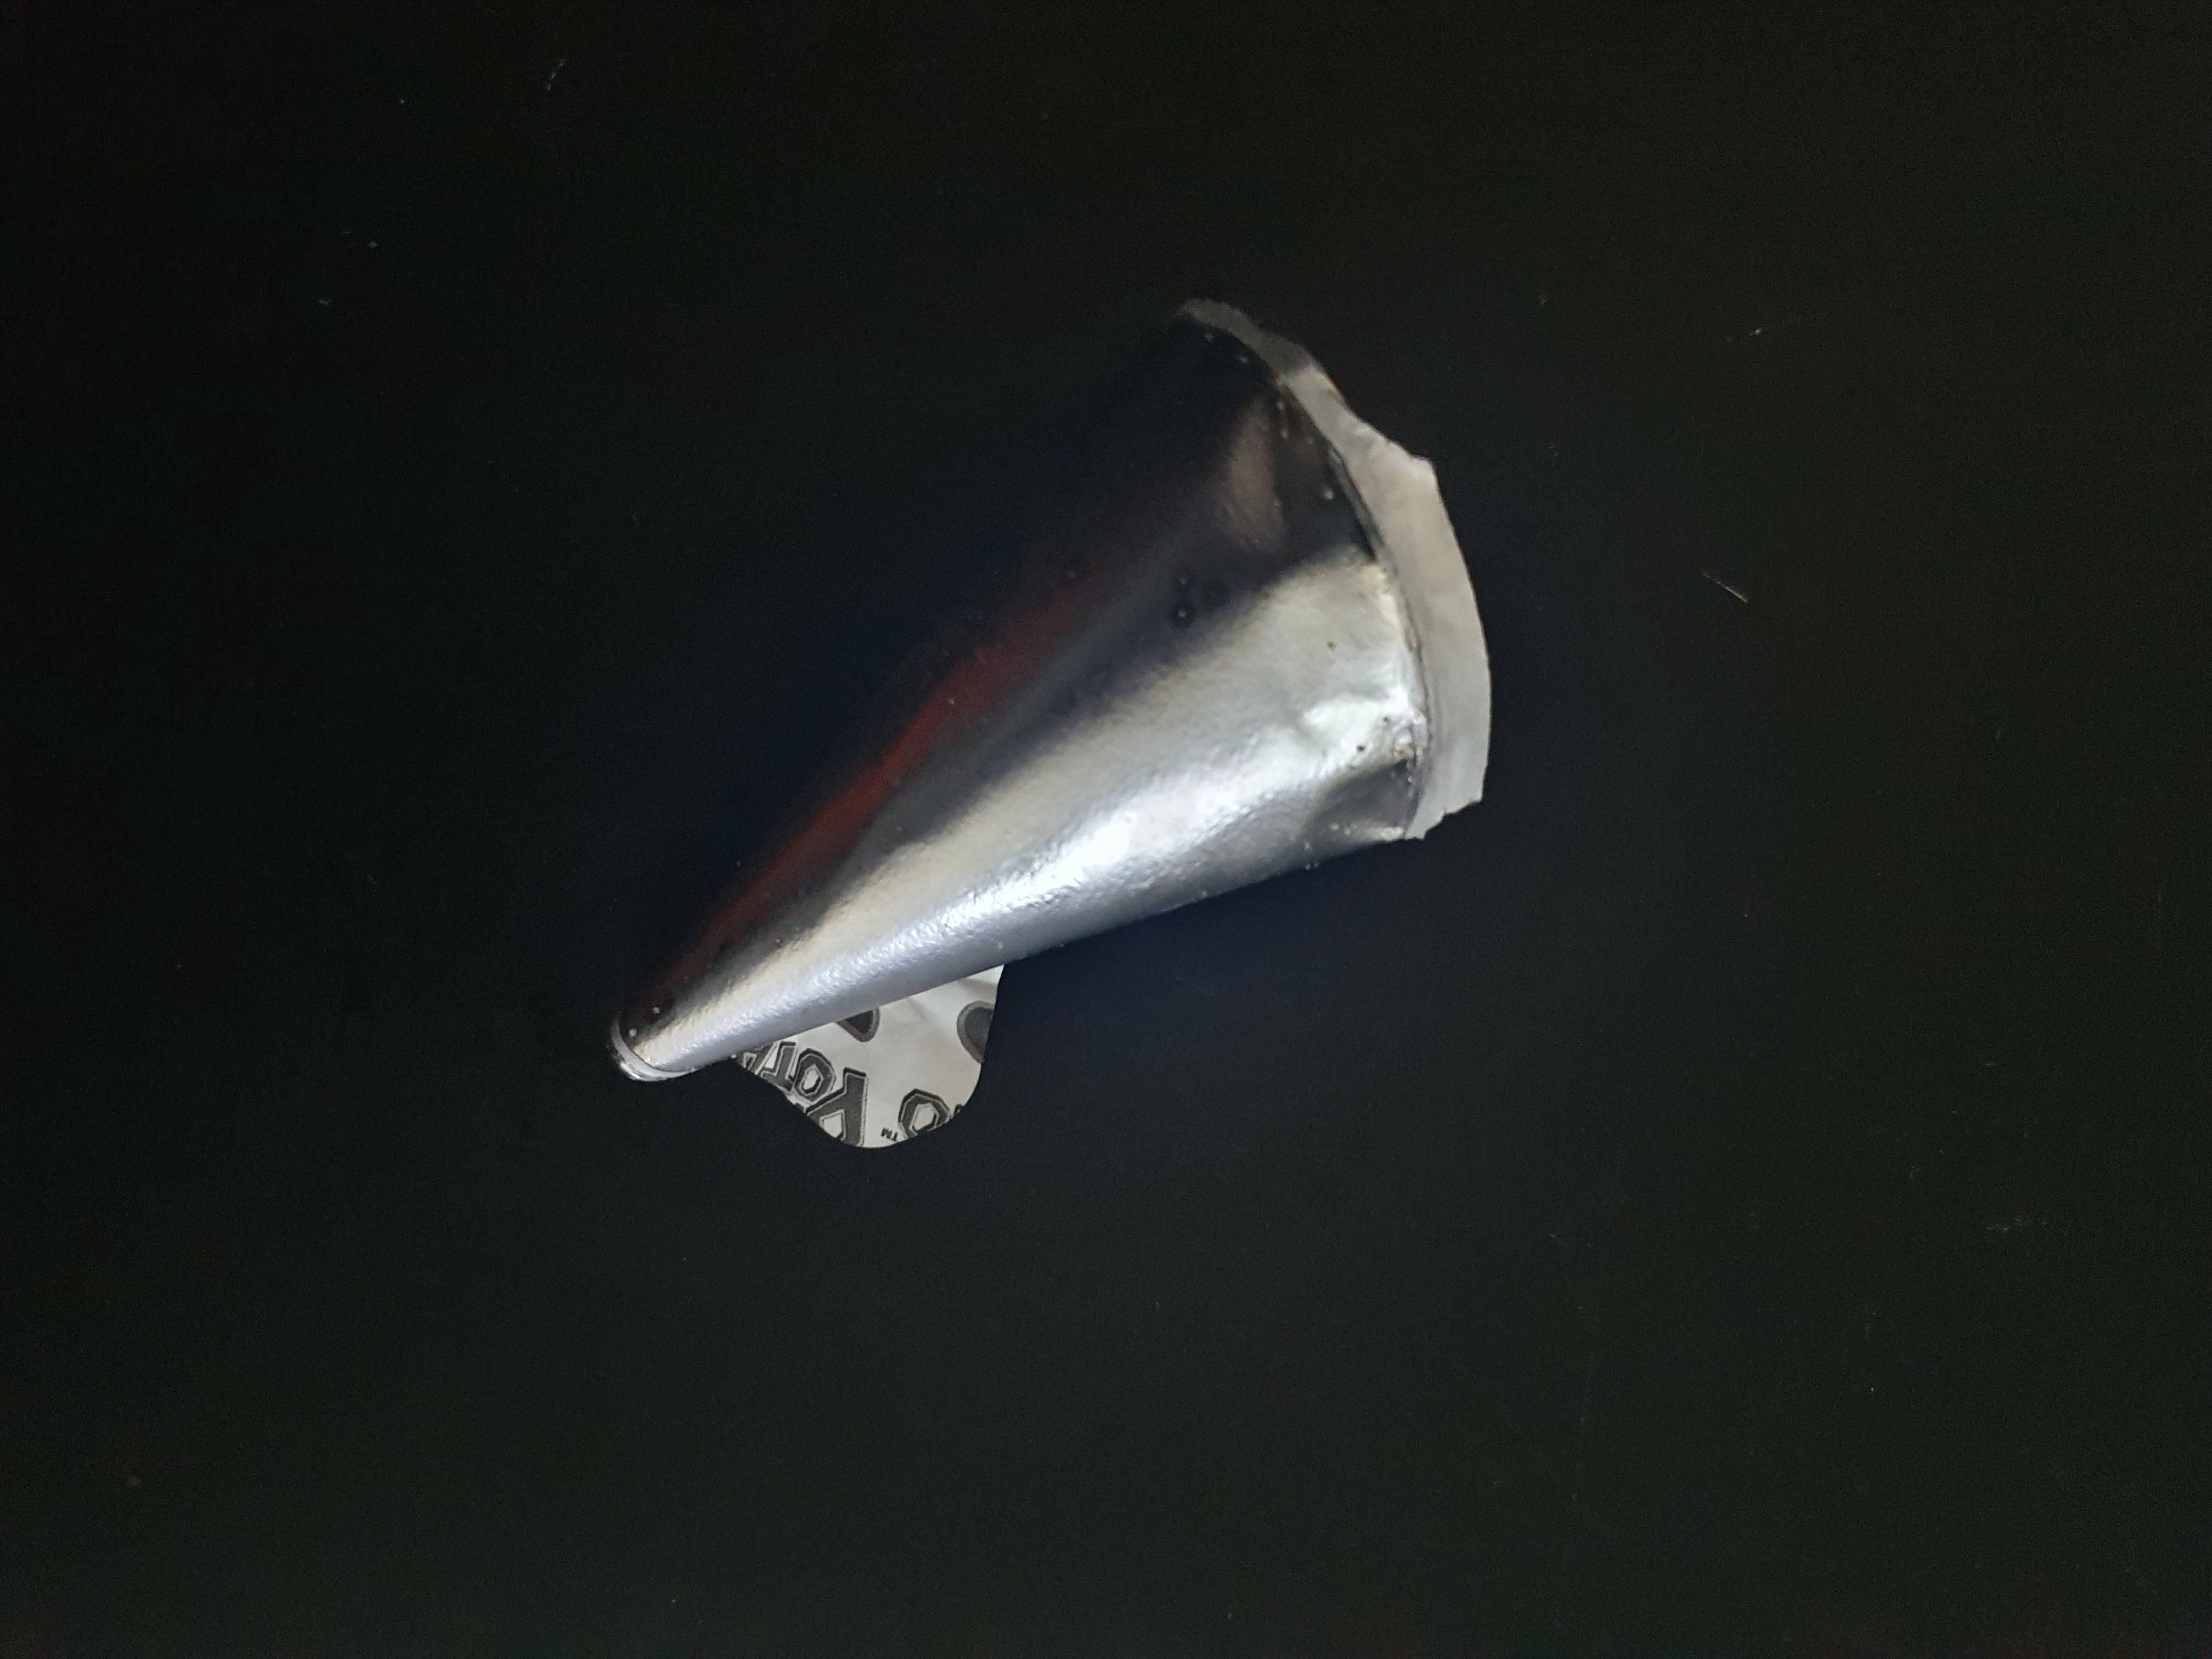metal: (519, 281, 1524, 1178)
